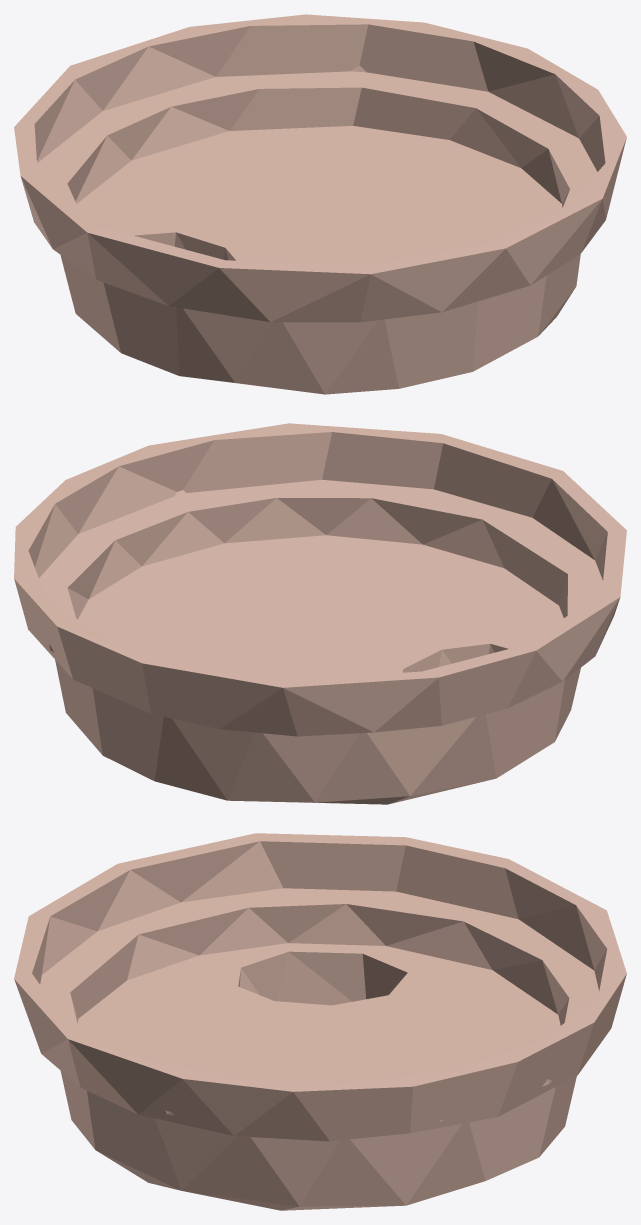
Rendered from ponklompanc.fbx.
3 views of the same model, one above another, from view 1: azimuth 30°, elevation 25°; view 2: azimuth 150°, elevation 25°; view 3: azimuth 270°, elevation 25° (orthographic).
Visible parts, largest first — view 1: ponklopac.001; view 2: ponklopac.001; view 3: ponklopac.001.
Part boxes in pixels (x1,y1,x2,y2): ponklopac.001: (14, 14, 626, 394); ponklopac.001: (14, 423, 626, 804); ponklopac.001: (14, 833, 626, 1210).
Bounding box in the file's own units: 28.36 × 7.49 × 28.4.
